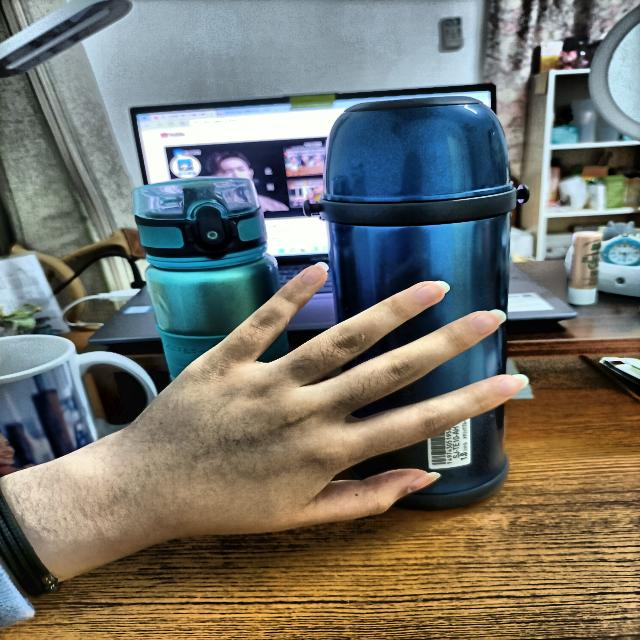not-gloved: (116, 242, 528, 563)
